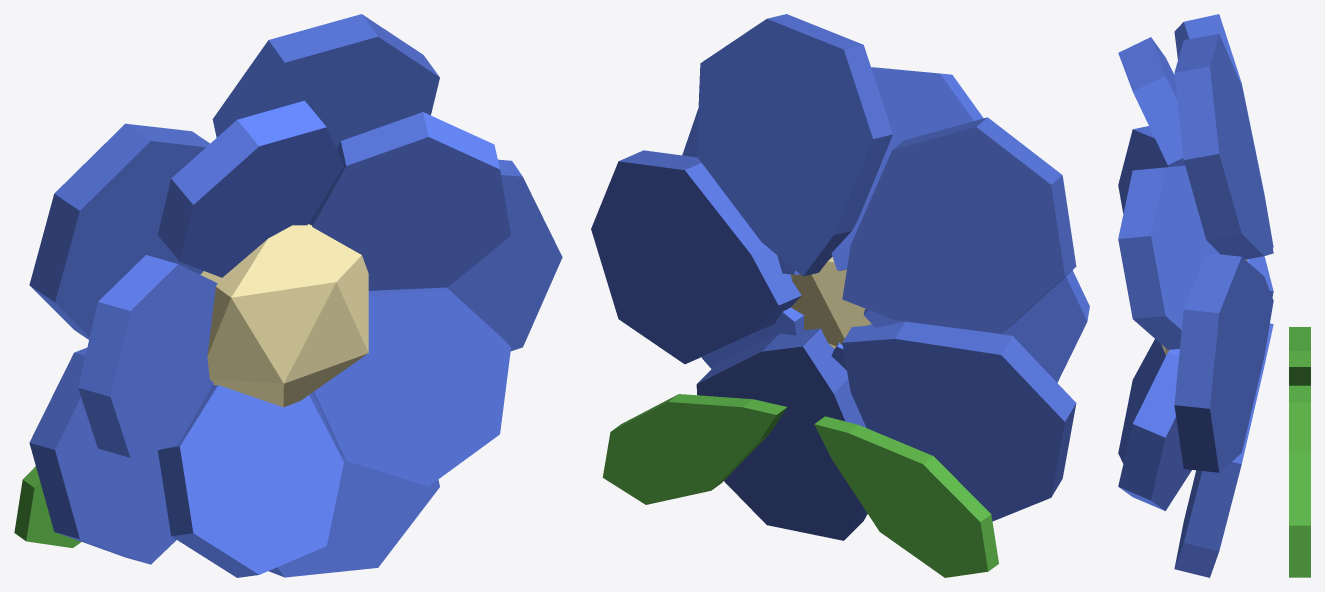
The model's file is flower_blue.glb.
3 views of the same model, side by side, from view 1: azimuth 30°, elevation 25°; view 2: azimuth 150°, elevation 25°; view 3: azimuth 270°, elevation 25° (orthographic). The views are drawn at different scales.
Visible parts, largest first — view 1: Petal; view 2: Petal; view 3: Petal.
Boxes of the visible parts, x1,y1,x2,y2 form: Petal: [14, 14, 562, 577]; Petal: [591, 14, 1089, 577]; Petal: [1118, 14, 1310, 577].
Bounding box in the file's own units: 0.7626 × 0.771 × 0.2632.
